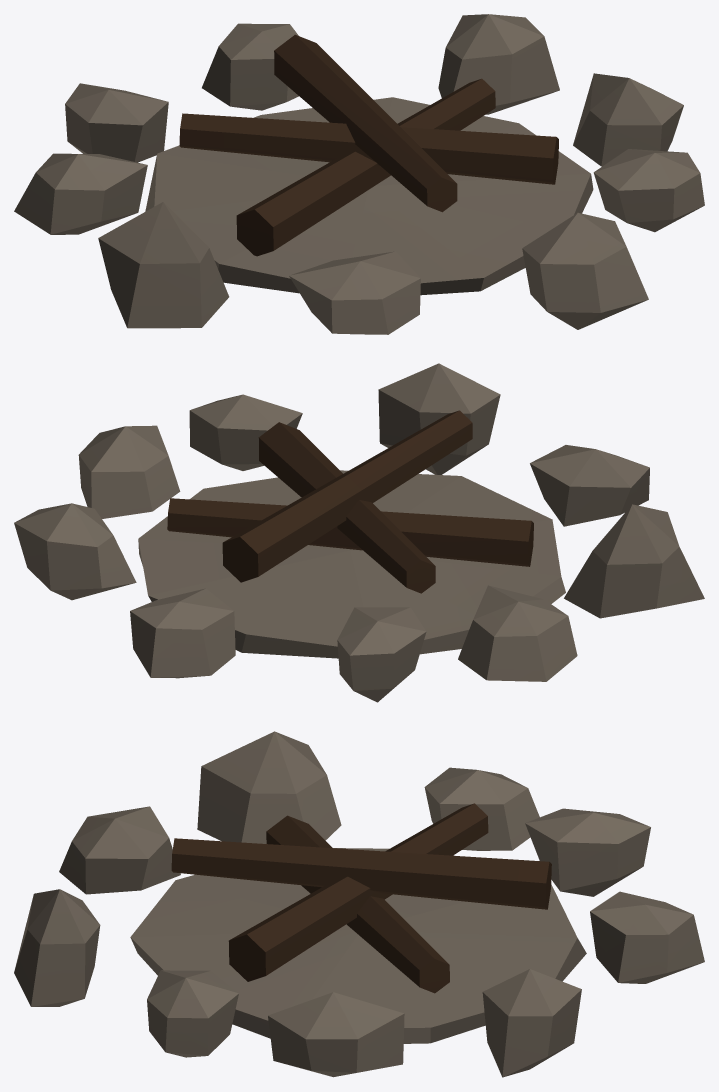
Rendered from caral_hearth_lod0.glb.
3 views of the same model, one above another, from view 1: azimuth 30°, elevation 25°; view 2: azimuth 150°, elevation 25°; view 3: azimuth 270°, elevation 25° (orthographic). The views are drawn at different scales.
Visible parts, largest first — view 1: GEO-Props_hearth_LOD0; view 2: GEO-Props_hearth_LOD0; view 3: GEO-Props_hearth_LOD0.
Boxes of the visible parts, box(x1,y1,x2,y2) form: GEO-Props_hearth_LOD0: box(14, 14, 704, 334); GEO-Props_hearth_LOD0: box(14, 363, 704, 702); GEO-Props_hearth_LOD0: box(14, 731, 704, 1077).
Bounding box in the file's own units: 1.16 × 0.2432 × 1.17.
